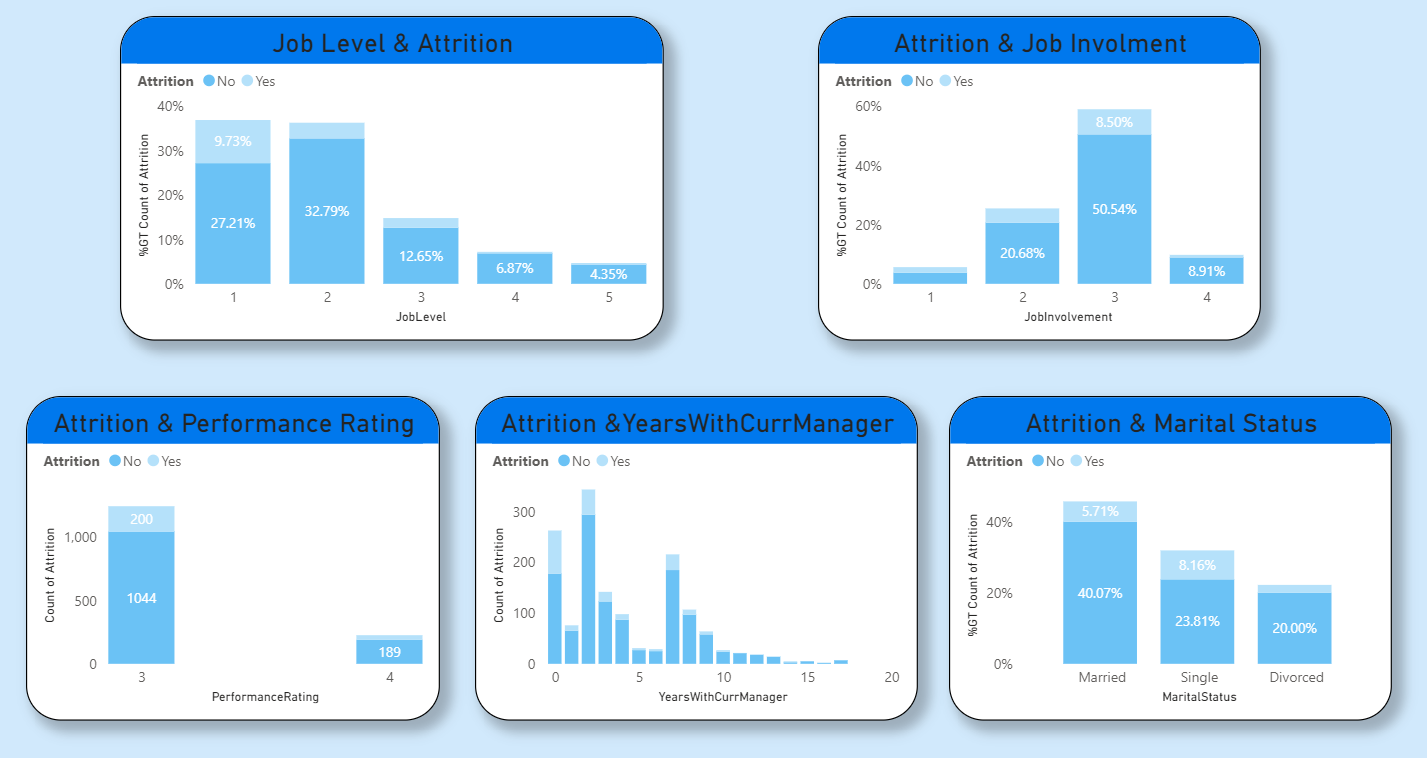

The page's visual inventory and layout, read from the dashboard file:
{"tool":"powerbi","page":{"name":"Page 4","canvas":[1280,720],"ordinal":3},"visuals":[{"type":"columnChart","title":"Job Level & Attrition","fields":{"Category":["HR-Employee-Attrition.JobLevel"],"Series":["HR-Employee-Attrition.Attrition"],"Y":["CountNonNull(HR-Employee-Attrition.Attrition)"]},"box":[131,25,469,280],"z":0},{"type":"columnChart","title":" Attrition & Performance Rating ","fields":{"Category":["HR-Employee-Attrition.PerformanceRating"],"Series":["HR-Employee-Attrition.Attrition"],"Y":["CountNonNull(HR-Employee-Attrition.Attrition)"]},"box":[50,353,357,280],"z":1000},{"type":"columnChart","title":" Attrition &YearsWithCurrManager","fields":{"Category":["HR-Employee-Attrition.YearsWithCurrManager"],"Series":["HR-Employee-Attrition.Attrition"],"Y":["CountNonNull(HR-Employee-Attrition.Attrition)"]},"box":[437,353,382,280],"z":2000},{"type":"columnChart","title":" Attrition & Job Involment","fields":{"Category":["HR-Employee-Attrition.JobInvolvement"],"Series":["HR-Employee-Attrition.Attrition"],"Y":["CountNonNull(HR-Employee-Attrition.Attrition)"]},"box":[733,25,382,280],"z":3000},{"type":"columnChart","title":" Attrition & Marital Status","fields":{"Category":["HR-Employee-Attrition.MaritalStatus"],"Series":["HR-Employee-Attrition.Attrition"],"Y":["CountNonNull(HR-Employee-Attrition.Attrition)"]},"box":[846,353,382,280],"z":4000}]}

Visuals, with their boxes on the page's 1280x720 design canvas (x1, y1, x2, y2). These are canvas units, not pixel positions in the 1427x758 screenshot, which may show the page scaled, cropped or inside an application window:
"Job Level & Attrition" columnChart: 131:25:600:305
" Attrition & Performance Rating " columnChart: 50:353:407:633
" Attrition &YearsWithCurrManager" columnChart: 437:353:819:633
" Attrition & Job Involment" columnChart: 733:25:1115:305
" Attrition & Marital Status" columnChart: 846:353:1228:633
